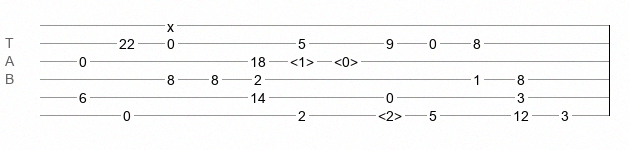0: (79, 54, 87, 64), (123, 108, 131, 118), (167, 36, 175, 46), (386, 90, 394, 100), (429, 36, 437, 46)
1: (473, 72, 481, 82)
12: (513, 108, 529, 118)
14: (250, 90, 266, 100)
18: (250, 54, 266, 64)
2: (254, 72, 262, 82), (298, 108, 306, 118)
22: (119, 36, 135, 46)
3: (517, 90, 525, 100), (561, 108, 569, 118)
5: (298, 36, 306, 46), (429, 108, 437, 118)
6: (79, 90, 87, 100)
8: (167, 72, 175, 82), (211, 72, 219, 82), (473, 36, 481, 46), (517, 72, 525, 82)
9: (386, 36, 394, 46)
harmonic: (290, 54, 314, 64), (334, 54, 358, 64), (378, 108, 402, 118)
x: (167, 19, 174, 27)
